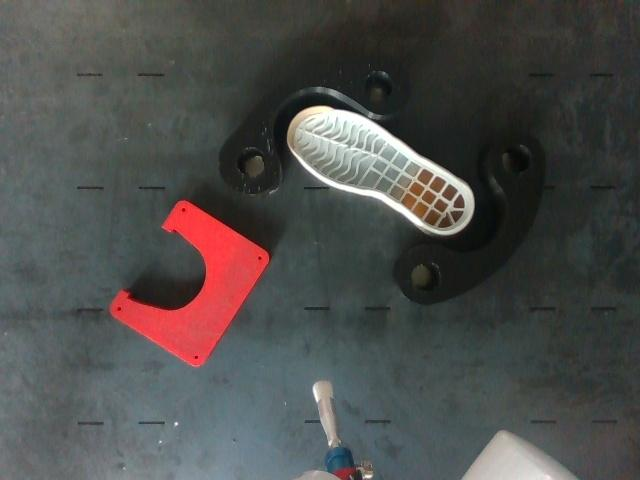shoes: (290, 108, 473, 233)
